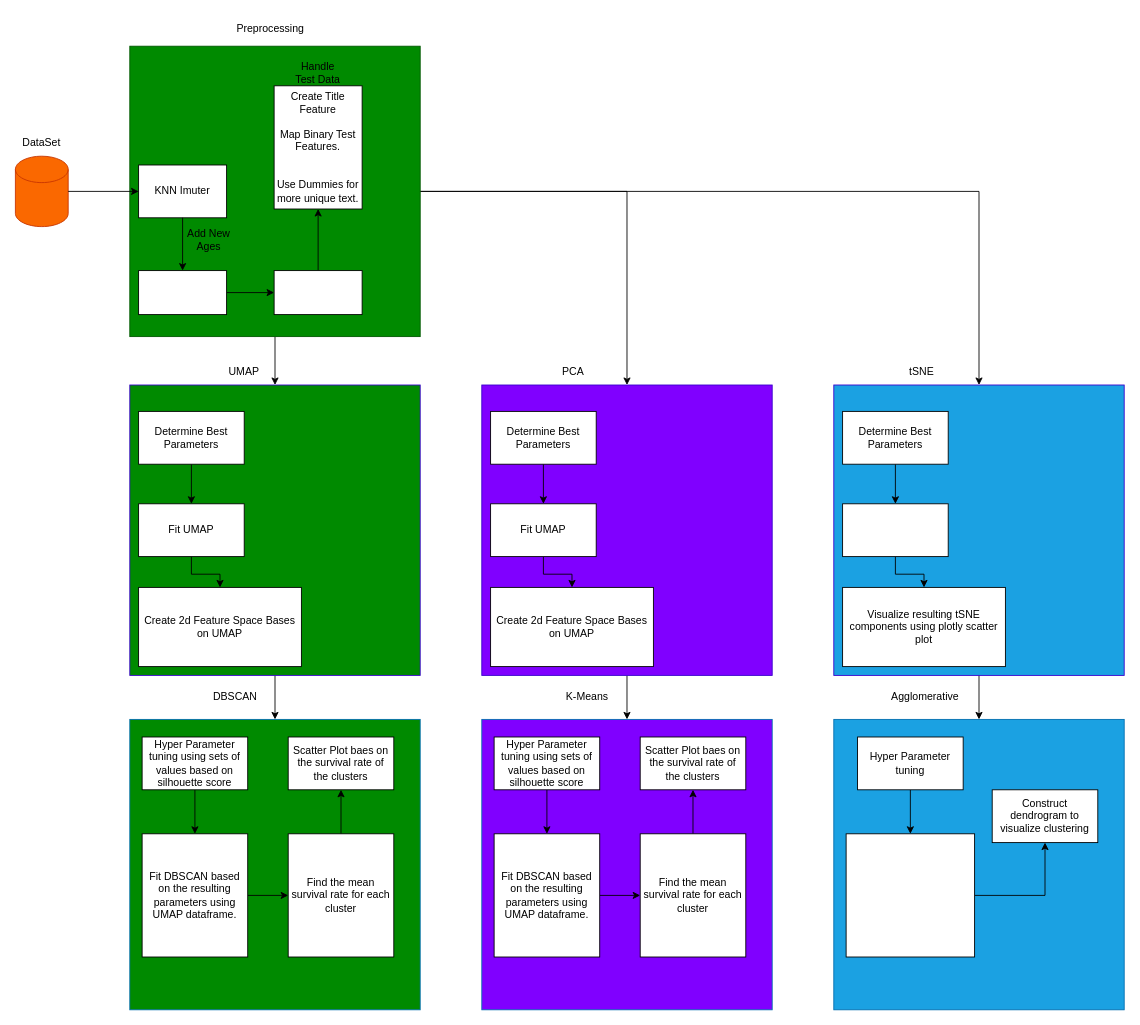
Image size: 1140x1025. Some labels were removed from this diagram. The box of each missing label's shape, as (x1, y1, x2, y2) in pixels:
Drop Unneeded Features: (138, 270, 227, 315)
Fit tSNE: (842, 503, 948, 557)
Remove NaN samples: (273, 270, 362, 315)
Use scoring metrics discussed in class to find best parameters: (845, 833, 975, 957)
